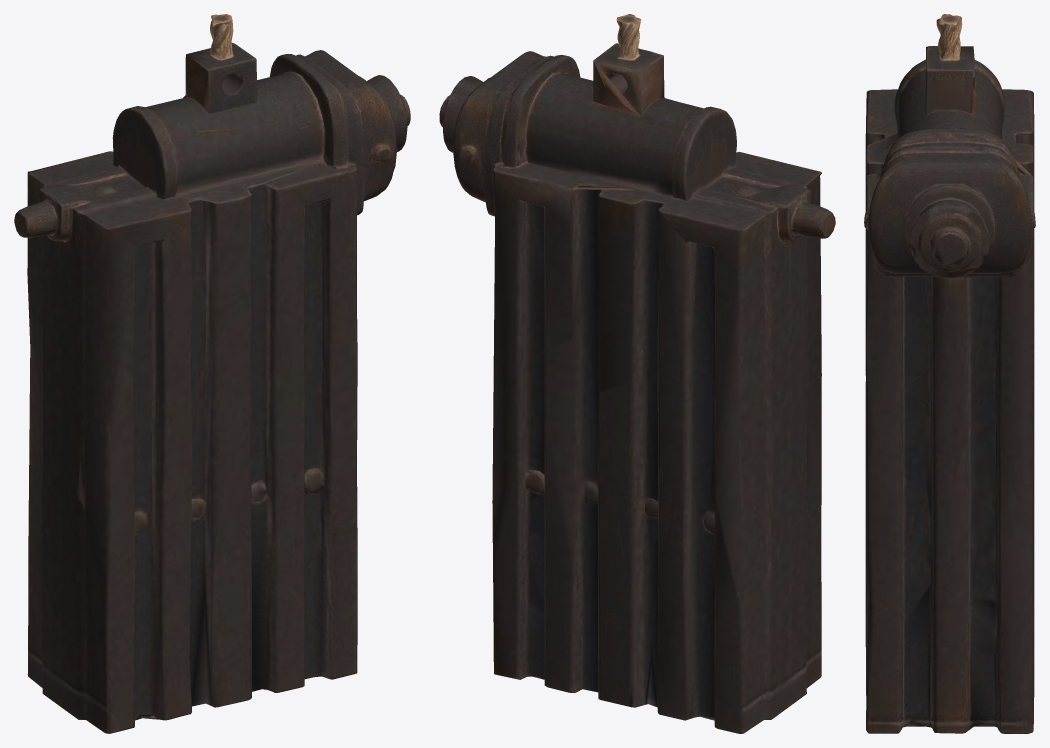
The model's file is piledriver.glb.
3 renders of one model, left to right at view 1: azimuth 30°, elevation 25°; view 2: azimuth 150°, elevation 25°; view 3: azimuth 270°, elevation 25°, orthographic. The views are drawn at different scales.
Parts seen in each view (by area): view 1: Mesh_0; view 2: Mesh_0; view 3: Mesh_0.
Boxes of the visible parts, x1,y1,x2,y2 form: Mesh_0: [14, 14, 410, 733]; Mesh_0: [439, 14, 835, 733]; Mesh_0: [864, 14, 1035, 733].
Bounding box in the file's own units: 1.17 × 1.9 × 0.4427.
Materials: 1 (1 with a texture image).
